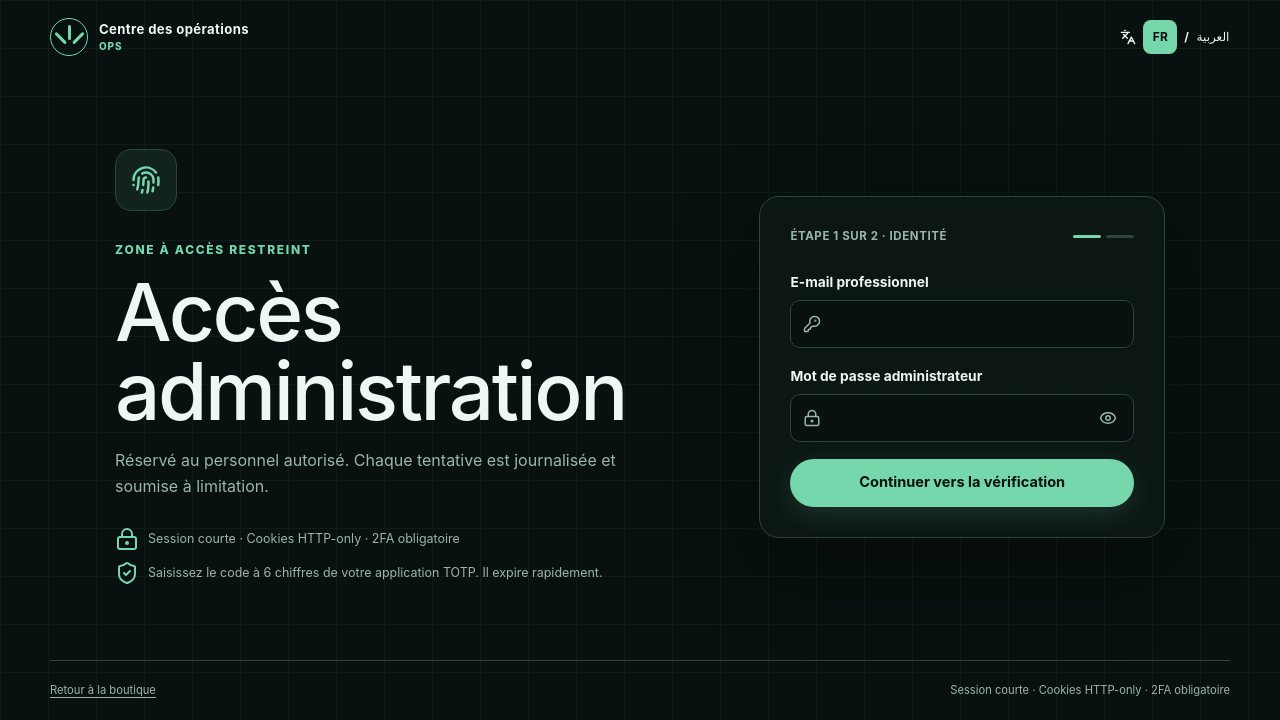
separate authentication forms › never persists the transient admin challenge in browser storage
Step 1. Type "ops@example.tn" into the field labelled "E-mail professionnel" → x=962, y=324, box [790,300,1134,348]
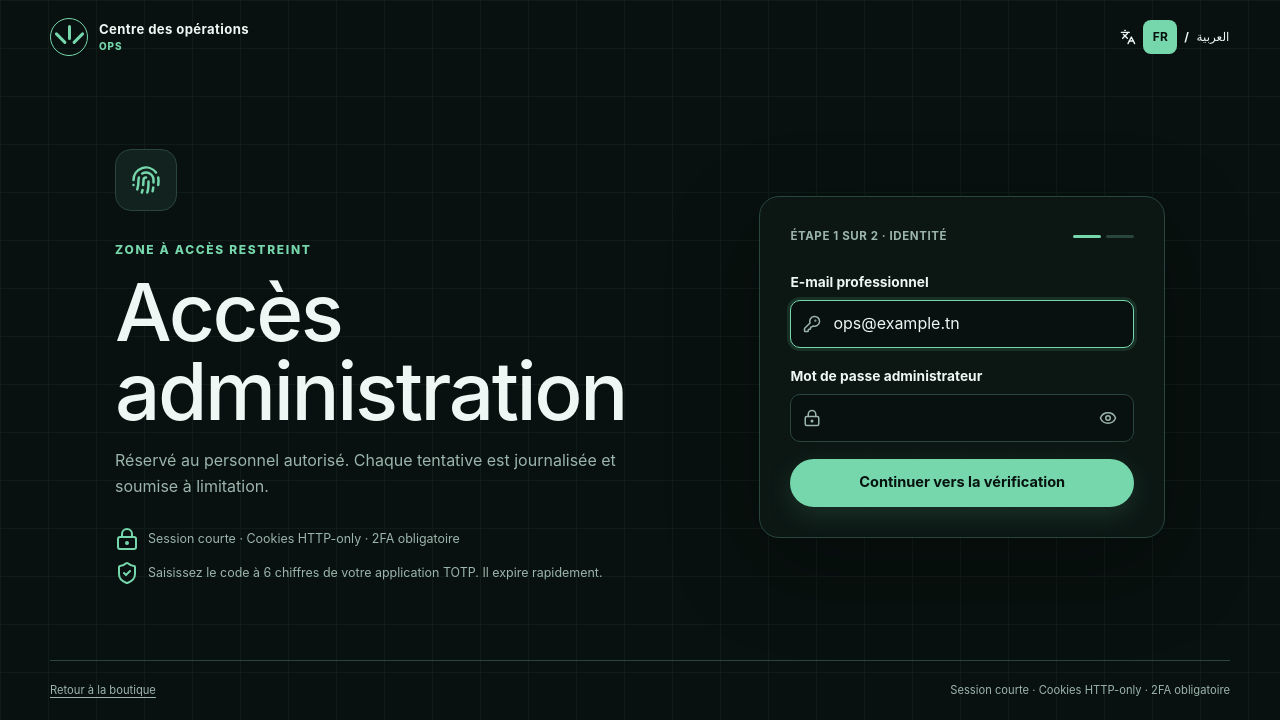
Step 2. Type "correct horse battery staple" into the password field labelled "Mot de passe administrateur" → x=962, y=418, box [790,394,1134,442]
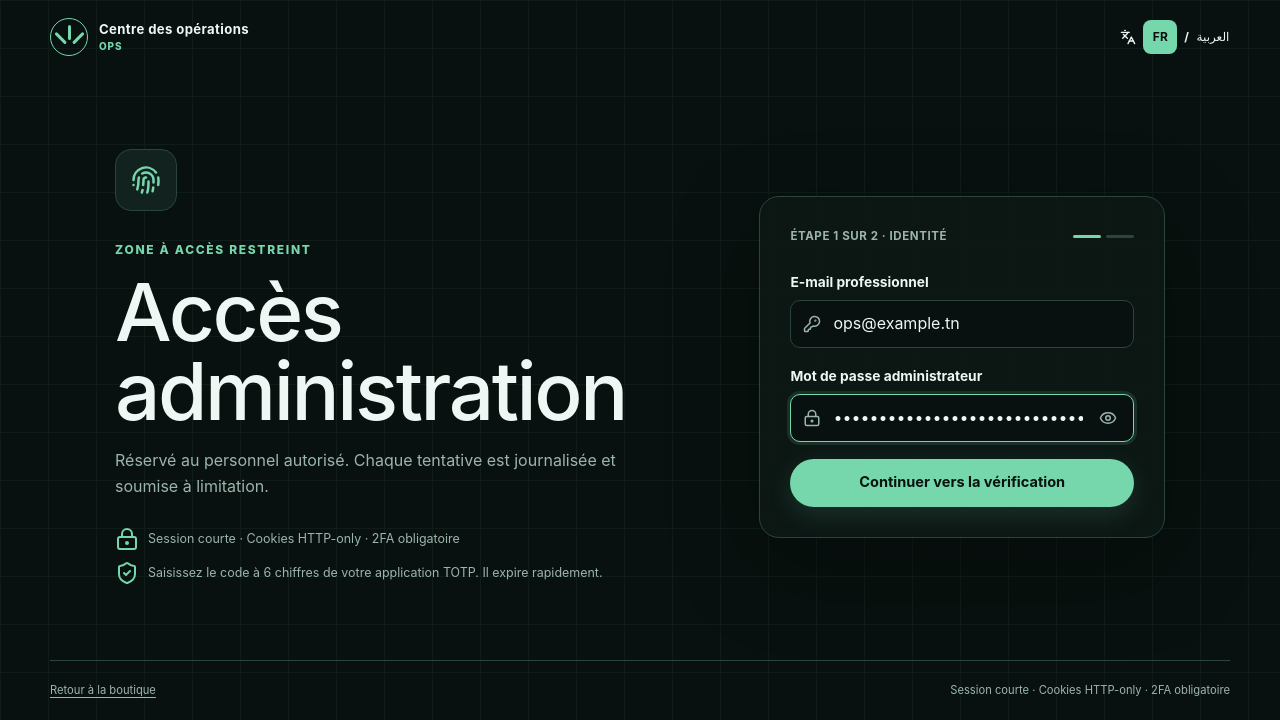
Step 3. Click the button "Continuer vers la vérification" → x=962, y=483, box [790,459,1134,507]
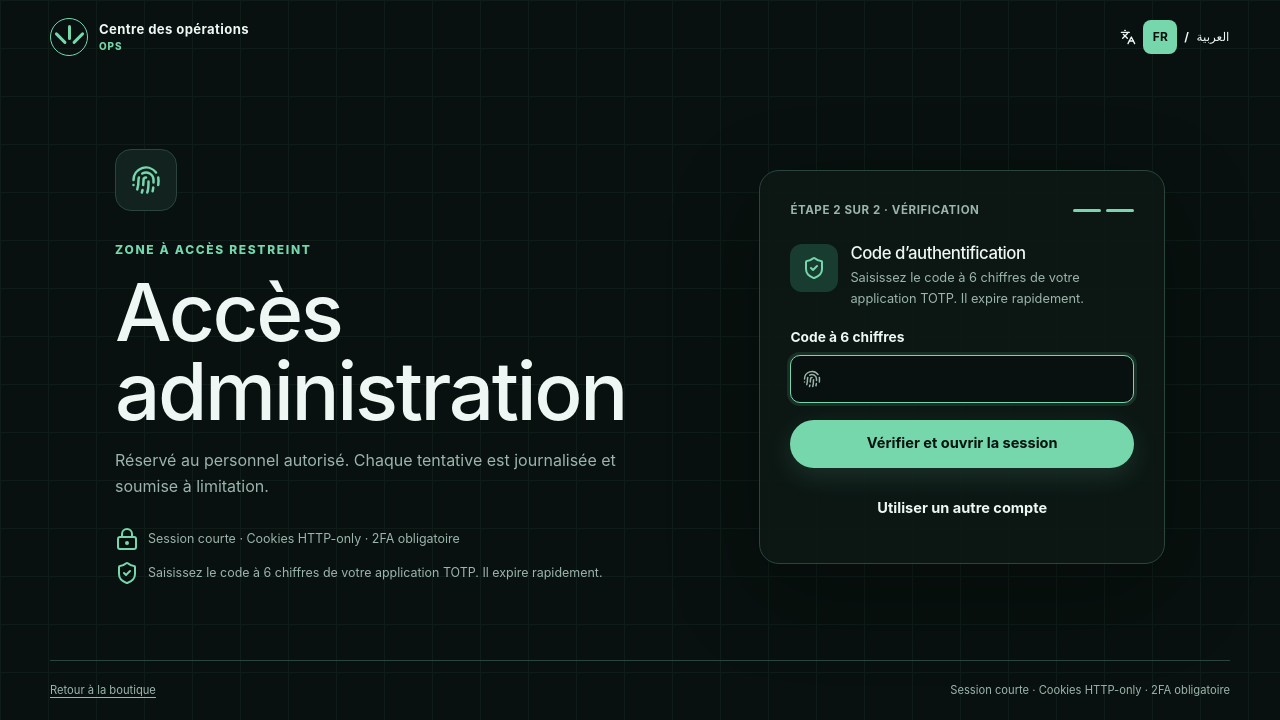
Check: the heading "Code d’authentification" is shown, box [850,243,1026,263]
